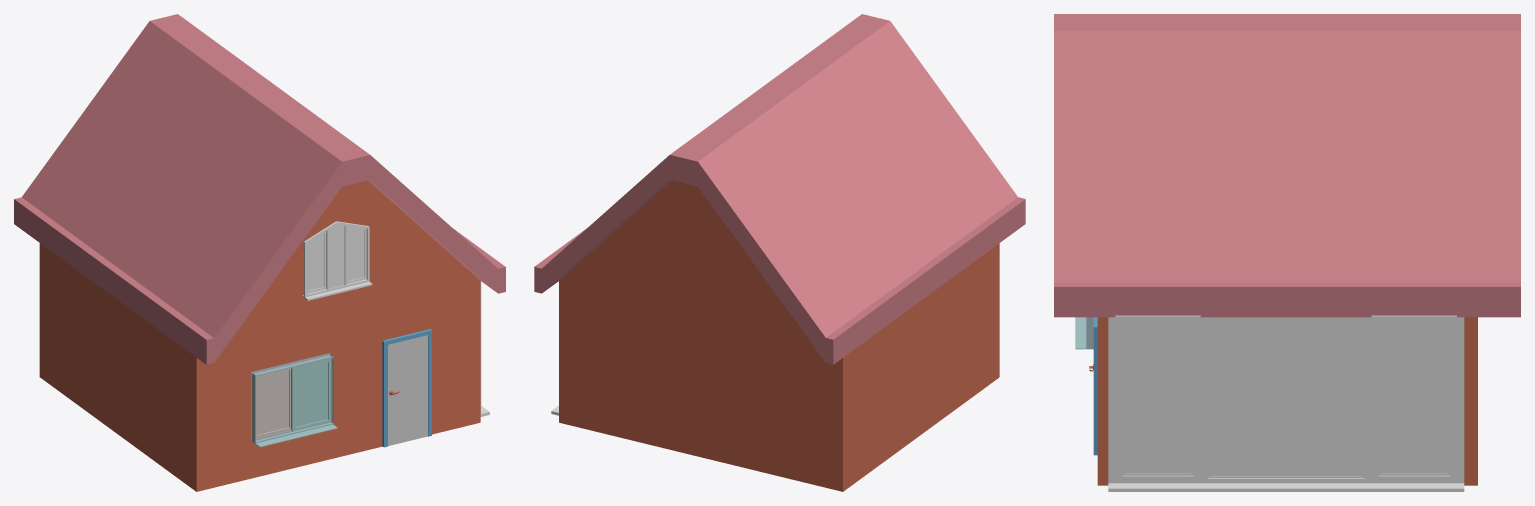
3 views of the same model, side by side, from view 1: azimuth 30°, elevation 25°; view 2: azimuth 150°, elevation 25°; view 3: azimuth 270°, elevation 25° (orthographic). The views are drawn at different scales.
Visible parts, largest first — view 1: Cube.001; view 2: Cube.001; view 3: Cube.001.
Part boxes in pixels (<box>): Cube.001: <box>14,14,505,491</box>; Cube.001: <box>534,14,1025,491</box>; Cube.001: <box>1054,14,1520,491</box>.
Size of the model in its own units: 737 by 725 by 804.
